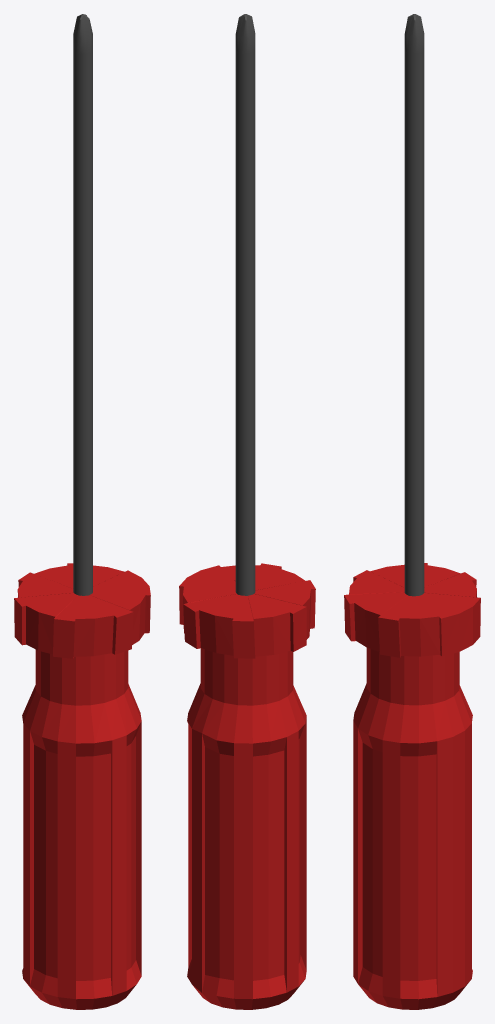
Rendered from phillipsScrewDriver.fbx.
The picture shows the model from 3 angles, left to right: view 1: azimuth 30°, elevation 25°; view 2: azimuth 150°, elevation 25°; view 3: azimuth 330°, elevation 25°; orthographic projection.
Parts seen in each view (by area): view 1: pCylinder3, pCylinder4; view 2: pCylinder3, pCylinder4; view 3: pCylinder3, pCylinder4.
Boxes of the visible parts, <box> form: pCylinder3: <box>14,563,150,1009</box>; pCylinder4: <box>73,14,92,595</box>; pCylinder3: <box>179,563,315,1009</box>; pCylinder4: <box>235,14,255,595</box>; pCylinder3: <box>344,563,480,1009</box>; pCylinder4: <box>404,14,424,596</box>.
Size of the model in its own units: 1.48 by 11.6 by 1.46.
